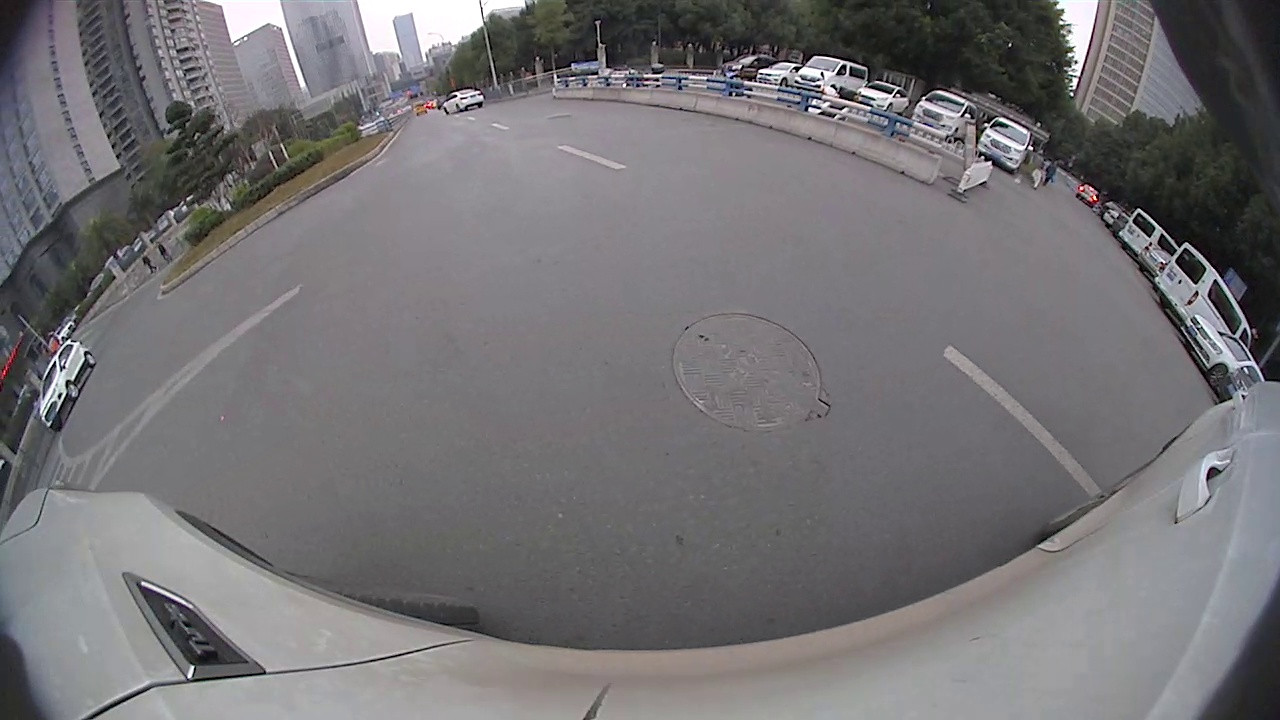car: (1153, 241, 1255, 352), (1176, 311, 1267, 387), (36, 338, 100, 435), (974, 105, 1040, 174), (795, 52, 872, 103), (1116, 206, 1180, 266), (911, 88, 977, 144), (853, 78, 912, 117)
front: (1207, 363, 1231, 385), (64, 381, 82, 403)
rear: (83, 352, 98, 367)
